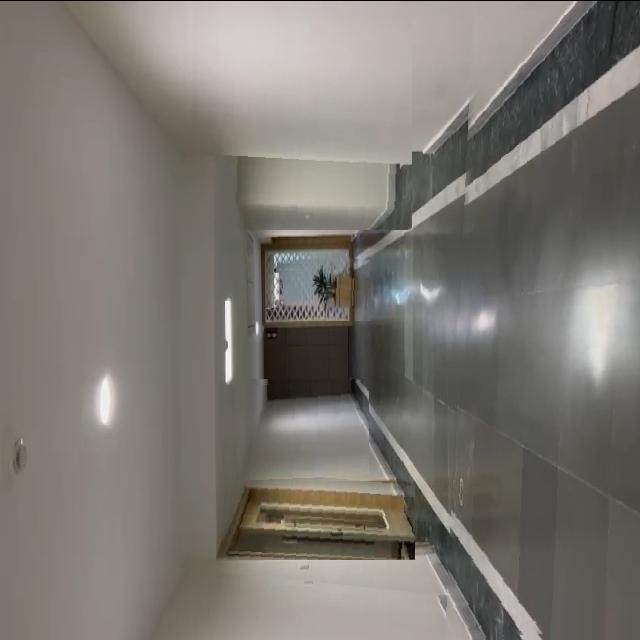door: (221, 468, 415, 559)
floor: (445, 0, 640, 640), (368, 165, 446, 464)
furniture: (320, 254, 370, 320)
wall: (186, 0, 412, 229), (168, 566, 459, 640), (236, 378, 369, 480)
